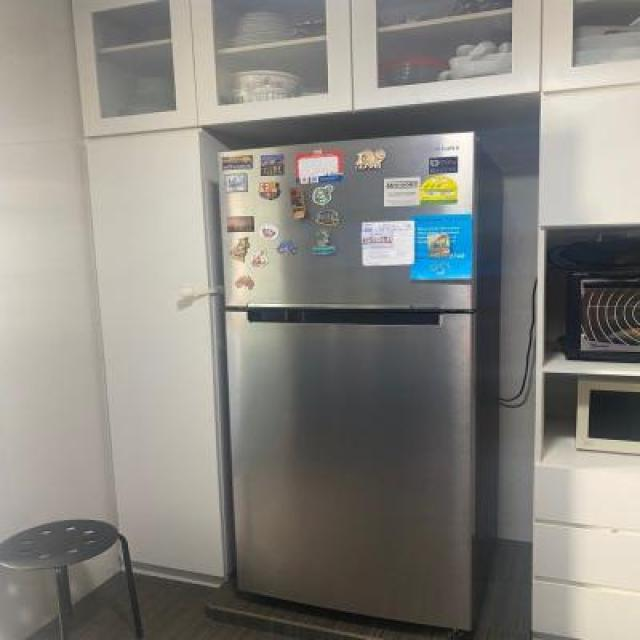refrigerator: (216, 130, 479, 633)
